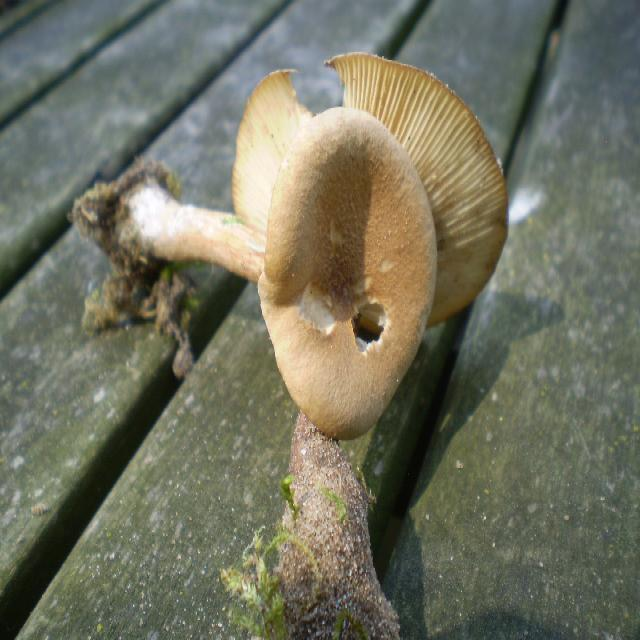Clitocybe maxima: (230, 55, 507, 620), (72, 123, 440, 438)
